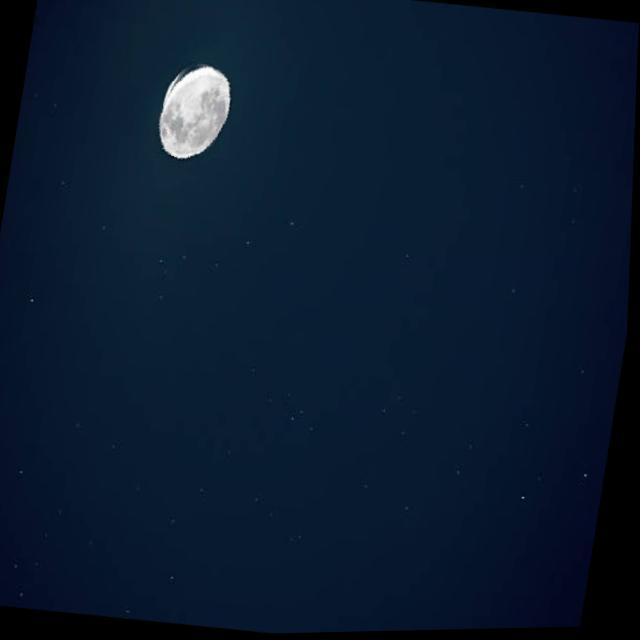moon: (146, 58, 240, 178)
